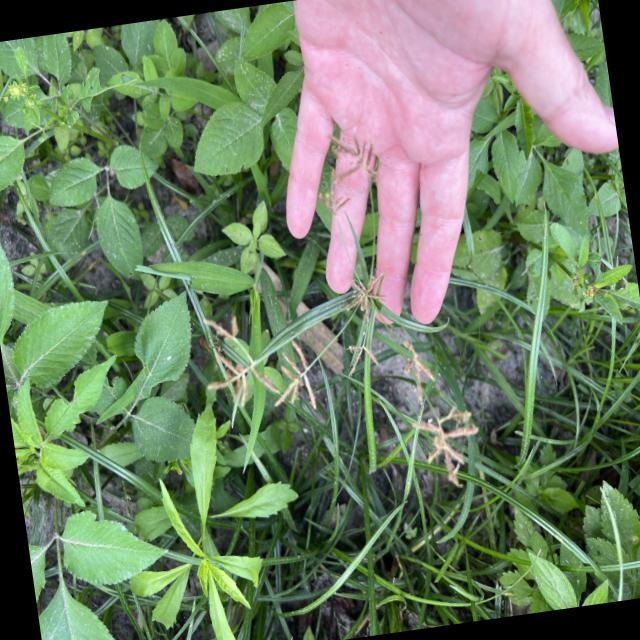cyperus: (177, 119, 489, 526), (313, 127, 403, 377), (195, 292, 335, 444), (386, 320, 486, 510)
